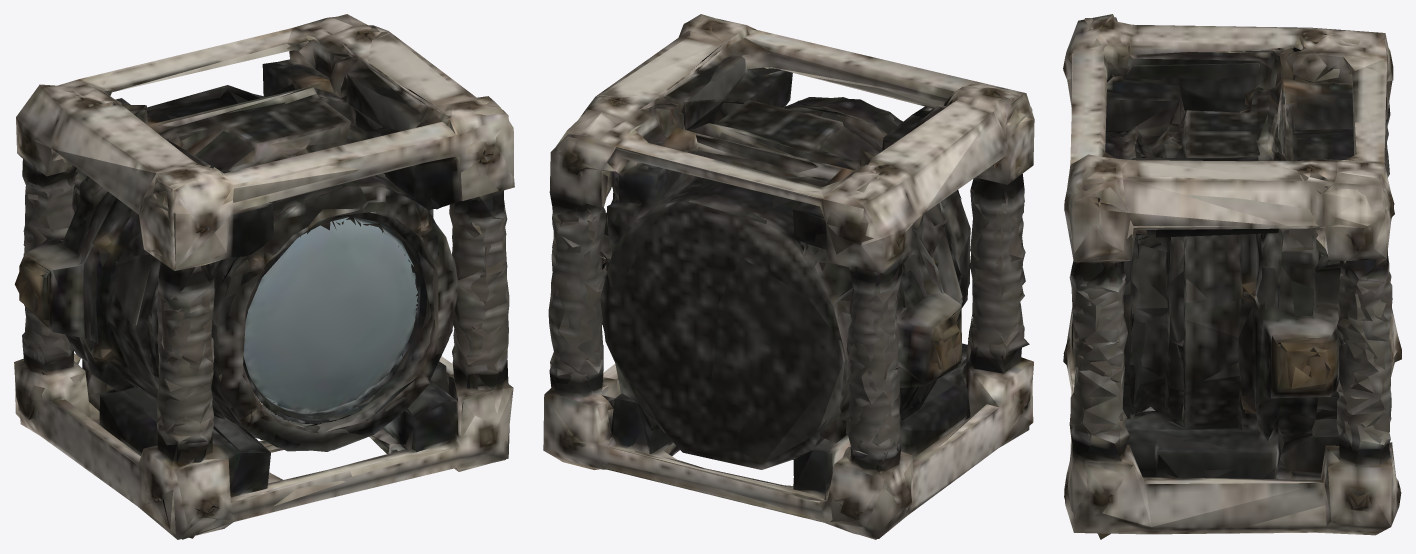
Rendered from salvage-lens.glb.
3 renders of one model, left to right at view 1: azimuth 30°, elevation 25°; view 2: azimuth 150°, elevation 25°; view 3: azimuth 270°, elevation 25°, orthographic. The views are drawn at different scales.
Parts seen in each view (by area): view 1: lens-housing, lens-glass; view 2: lens-housing; view 3: lens-housing.
Boxes of the visible parts, box(x1,y1,x2,y2) form: lens-housing: box(14, 14, 514, 539); lens-glass: box(243, 218, 417, 423); lens-housing: box(543, 14, 1034, 539); lens-housing: box(1063, 14, 1401, 539).
Bounding box in the file's own units: 0.1738 × 0.15 × 0.1253.
Materials: 1 (1 with a texture image).
